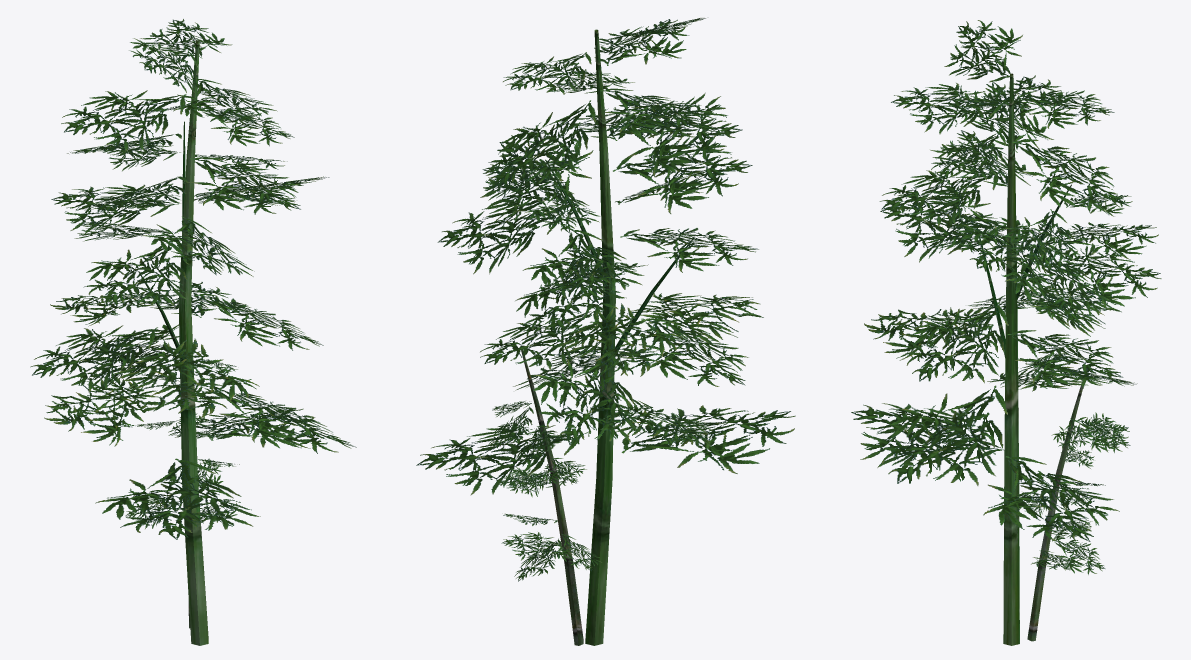
The model's file is a_zhiwu_006.fbx.
3 renders of one model, left to right at view 1: azimuth 30°, elevation 25°; view 2: azimuth 150°, elevation 25°; view 3: azimuth 270°, elevation 25°, orthographic. The views are drawn at different scales.
Visible parts, largest first — view 1: a_zhiwu_006; view 2: a_zhiwu_006; view 3: a_zhiwu_006.
Boxes of the visible parts, x1,y1,x2,y2 form: a_zhiwu_006: [30, 19, 356, 645]; a_zhiwu_006: [416, 18, 795, 645]; a_zhiwu_006: [851, 20, 1161, 645].
Size of the model in its own units: 3.25 by 6 by 3.07.
